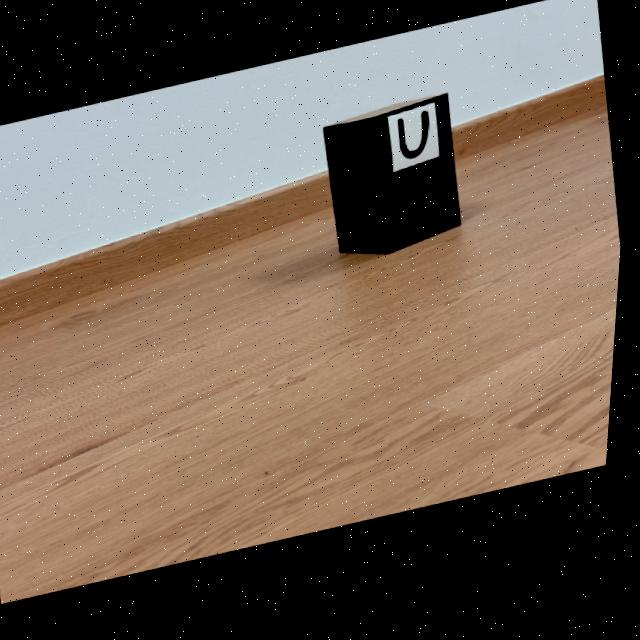U: (400, 117, 431, 166)
